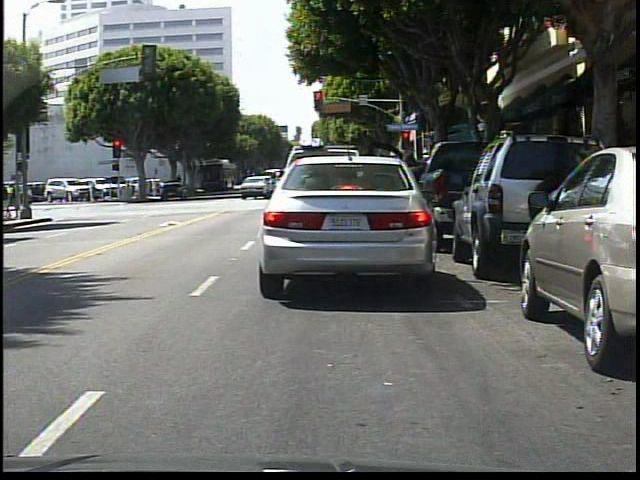person: (401, 147, 430, 236), (3, 183, 22, 219)
